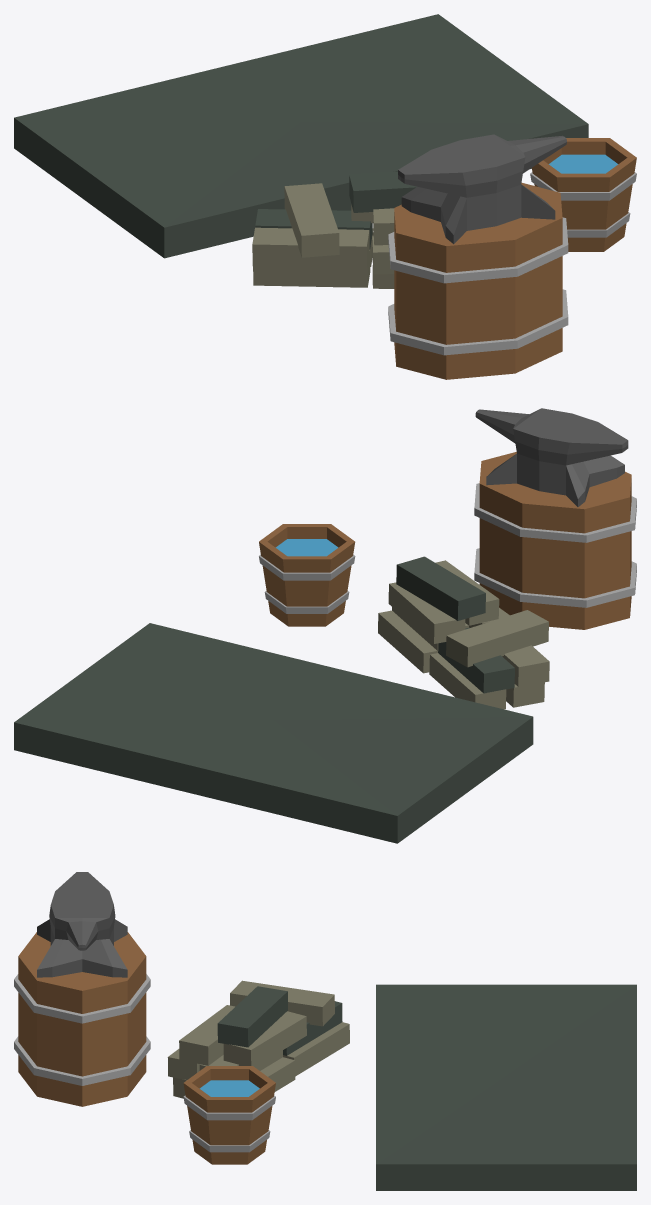
Rendered from Smithy_build_mat.fbx.
The picture shows the model from 3 angles, top to bottom: view 1: azimuth 30°, elevation 25°; view 2: azimuth 150°, elevation 25°; view 3: azimuth 270°, elevation 25°; orthographic projection. The views are drawn at different scales.
Parts seen in each view (by area): view 1: Smithy_build_mat; view 2: Smithy_build_mat; view 3: Smithy_build_mat.
Boxes of the visible parts, x1,y1,x2,y2 form: Smithy_build_mat: [14, 14, 636, 379]; Smithy_build_mat: [14, 408, 636, 843]; Smithy_build_mat: [14, 872, 636, 1190].
Size of the model in its own units: 1.42 by 0.62 by 2.08.
